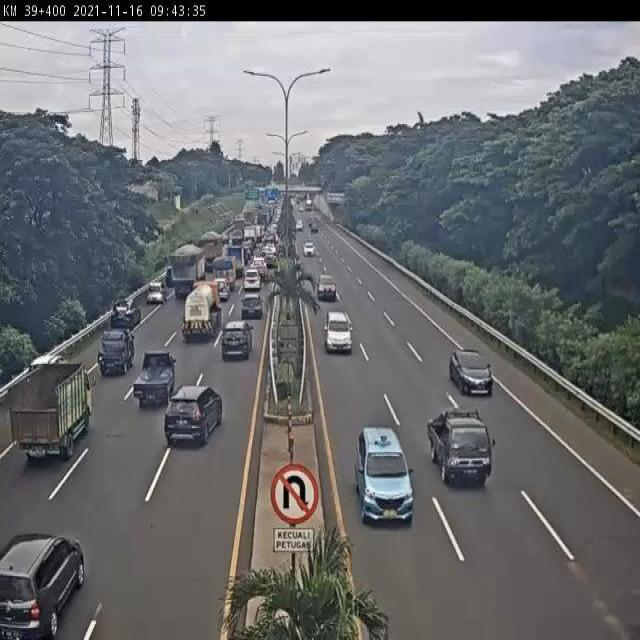car: (0, 533, 85, 640), (356, 424, 418, 529), (426, 408, 496, 492), (164, 385, 226, 451), (132, 351, 178, 412), (450, 346, 493, 398), (98, 328, 135, 377), (219, 323, 253, 365), (324, 310, 353, 354), (106, 300, 140, 333), (237, 296, 263, 327), (142, 283, 165, 309), (317, 276, 338, 304), (211, 277, 232, 304), (242, 270, 259, 294)
small truck: (6, 360, 94, 465)
truck-m-: (180, 280, 226, 344), (164, 245, 205, 307)
